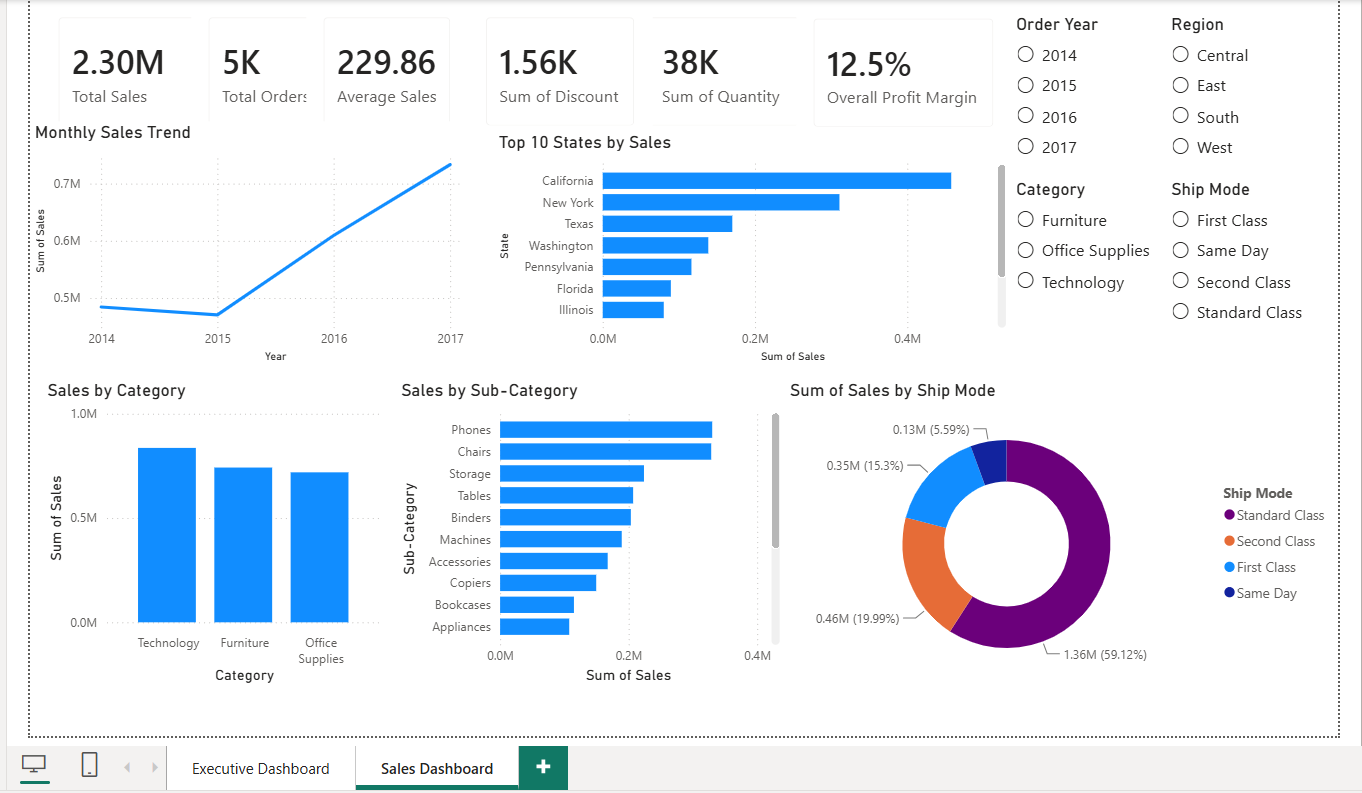

The dashboard page shown, as its layout file describes it:
{"tool":"powerbi","page":{"name":"Sales Dashboard","canvas":[1280,720],"ordinal":1},"visuals":[{"type":"cardVisual","fields":{"Data":["feature_engineered_superstore.Total Sales"]},"box":[11,0,176.1,140.6],"z":0},{"type":"cardVisual","fields":{"Data":["Sum(feature_engineered_superstore.Quantity)"]},"box":[588.2,0,182.2,140.6],"z":1},{"type":"cardVisual","fields":{"Data":["Sum(feature_engineered_superstore.Discount)"]},"box":[429.2,0,179.8,140.6],"z":2},{"type":"cardVisual","fields":{"Data":["feature_engineered_superstore.Total Orders"]},"box":[157.7,0,165.1,140.6],"z":3},{"type":"cardVisual","fields":{"Data":["feature_engineered_superstore.Average Sales"]},"box":[270.2,0,159,140.6],"z":4},{"type":"cardVisual","fields":{"Data":["feature_engineered_superstore.Overall Profit Margin"]},"box":[749.6,1.2,210.3,140.6],"z":5},{"type":"lineChart","title":"Monthly Sales Trend","fields":{"Category":["feature_engineered_superstore.Order Date.Variation.Date Hierarchy.Year","feature_engineered_superstore.Order Date.Variation.Date Hierarchy.Quarter","feature_engineered_superstore.Order Date.Variation.Date Hierarchy.Month","feature_engineered_superstore.Order Date.Variation.Date Hierarchy.Day"],"Y":["Sum(feature_engineered_superstore.Sales)"]},"box":[0,118.6,429.2,240.9],"z":6},{"type":"clusteredColumnChart","title":"Sales by Category","fields":{"Category":["feature_engineered_superstore.Category"],"Y":["Sum(feature_engineered_superstore.Sales)"]},"box":[12.2,371.7,337.5,302],"z":7},{"type":"clusteredBarChart","title":"Sales by Sub-Category","fields":{"Category":["feature_engineered_superstore.Sub-Category"],"Y":["Sum(feature_engineered_superstore.Sales)"]},"box":[358.3,371.7,380.3,302],"z":8},{"type":"donutChart","fields":{"Category":["feature_engineered_superstore.Ship Mode"],"Y":["Sum(feature_engineered_superstore.Sales)"]},"box":[738.6,371.7,541.7,302],"z":9},{"type":"clusteredBarChart","title":"Top 10 States by Sales","fields":{"Category":["feature_engineered_superstore.State"],"Y":["Sum(feature_engineered_superstore.Sales)"]},"box":[453.7,128.4,506.3,231.1],"z":10},{"type":"listSlicer","fields":{"Values":["feature_engineered_superstore.Order Year"]},"box":[959.9,13.5,151.6,150.4],"z":11},{"type":"listSlicer","fields":{"Values":["feature_engineered_superstore.Category"]},"box":[959.9,174.9,151.6,184.6],"z":12},{"type":"listSlicer","fields":{"Values":["feature_engineered_superstore.Ship Mode"]},"box":[1111.6,174.9,168.8,196.9],"z":13},{"type":"listSlicer","fields":{"Values":["feature_engineered_superstore.Region"]},"box":[1111.6,13.5,168.8,150.4],"z":14}]}

Visuals, with their boxes on the page's 1280x720 design canvas (x1, y1, x2, y2). These are canvas units, not pixel positions in the 1362x793 screenshot, which may show the page scaled, cropped or inside an application window:
cardVisual - feature_engineered_superstore.Total Sales: bbox(11, 0, 187, 141)
cardVisual - Sum(feature_engineered_superstore.Quantity): bbox(588, 0, 770, 141)
cardVisual - Sum(feature_engineered_superstore.Discount): bbox(429, 0, 609, 141)
cardVisual - feature_engineered_superstore.Total Orders: bbox(158, 0, 323, 141)
cardVisual - feature_engineered_superstore.Average Sales: bbox(270, 0, 429, 141)
cardVisual - feature_engineered_superstore.Overall Profit Margin: bbox(750, 1, 960, 142)
"Monthly Sales Trend" lineChart: bbox(0, 119, 429, 360)
"Sales by Category" clusteredColumnChart: bbox(12, 372, 350, 674)
"Sales by Sub-Category" clusteredBarChart: bbox(358, 372, 739, 674)
donutChart - feature_engineered_superstore.Ship Mode x Sum(feature_engineered_superstore.Sales): bbox(739, 372, 1280, 674)
"Top 10 States by Sales" clusteredBarChart: bbox(454, 128, 960, 360)
listSlicer - feature_engineered_superstore.Order Year: bbox(960, 14, 1112, 164)
listSlicer - feature_engineered_superstore.Category: bbox(960, 175, 1112, 360)
listSlicer - feature_engineered_superstore.Ship Mode: bbox(1112, 175, 1280, 372)
listSlicer - feature_engineered_superstore.Region: bbox(1112, 14, 1280, 164)
